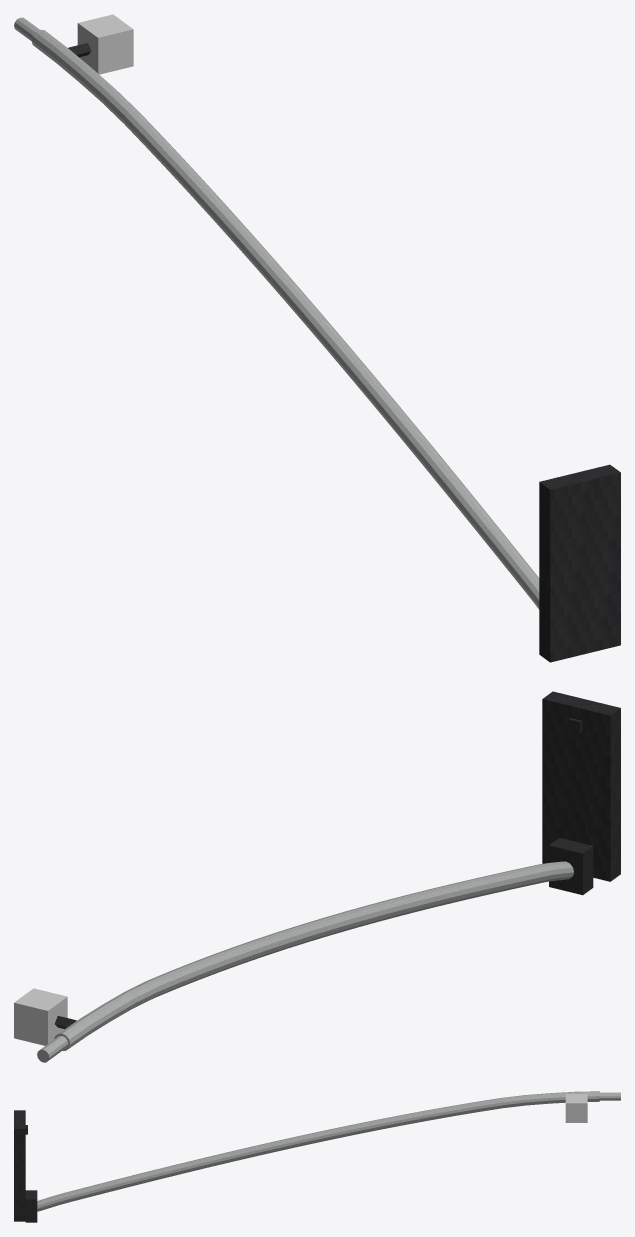
File: arm_5_straight_right.obj
3 renders of one model, top to bottom at view 1: azimuth 30°, elevation 25°; view 2: azimuth 150°, elevation 25°; view 3: azimuth 270°, elevation 25°, orthographic. The views are drawn at different scales.
Visible parts, largest first — view 1: pole_light_mount_5_straight_right; view 2: pole_light_mount_5_straight_right; view 3: pole_light_mount_5_straight_right.
Boxes of the visible parts, box(x1,y1,x2,y2) form: pole_light_mount_5_straight_right: box(14, 14, 620, 662); pole_light_mount_5_straight_right: box(14, 691, 620, 1062); pole_light_mount_5_straight_right: box(14, 1091, 620, 1222).
Bounding box in the file's own units: 0.5138 × 1.24 × 5.19.
